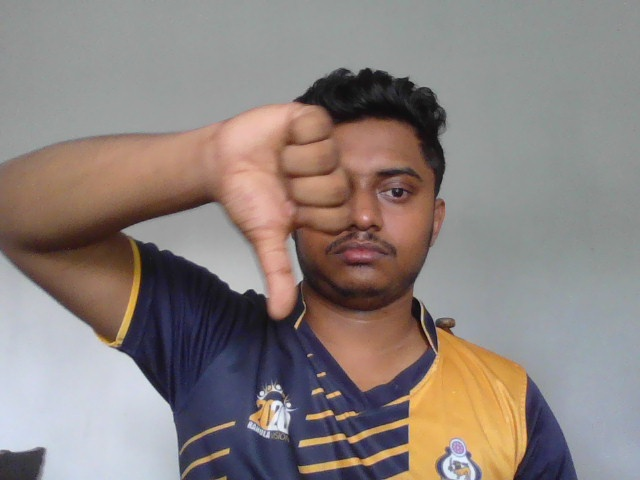Disagree: (210, 100, 349, 323)
